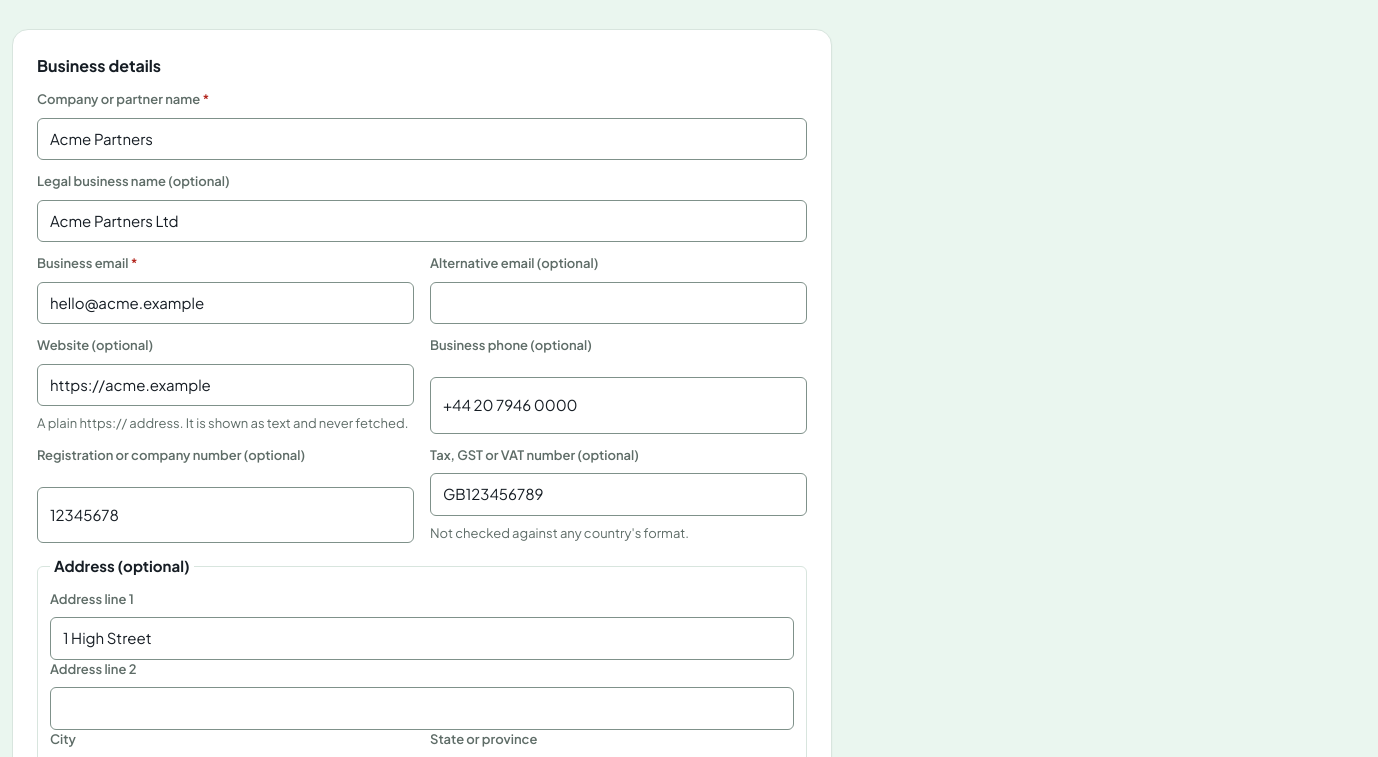
Business Details › sends only the business, support, payout and notes parts, at the version it read, and shows the saved values
(page scrolled)
Expected: the button "Save business details" is not shown
Replace the text in the field labelled "Website (optional)" with "  https://www.acme.example " at (226, 385), box [37,364,414,406]
(page scrolled)
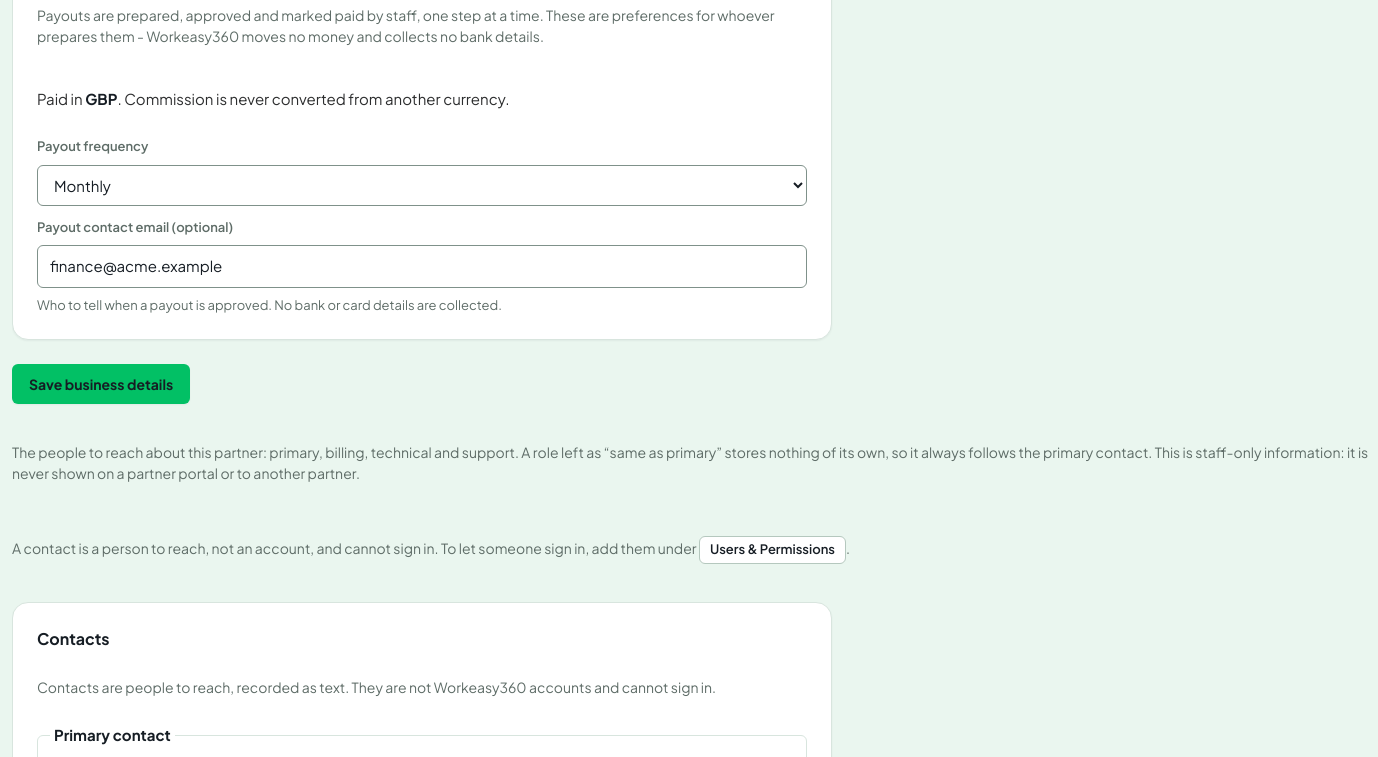
Click the button "Save business details" at (101, 384), box [12,364,190,404]
(page scrolled)
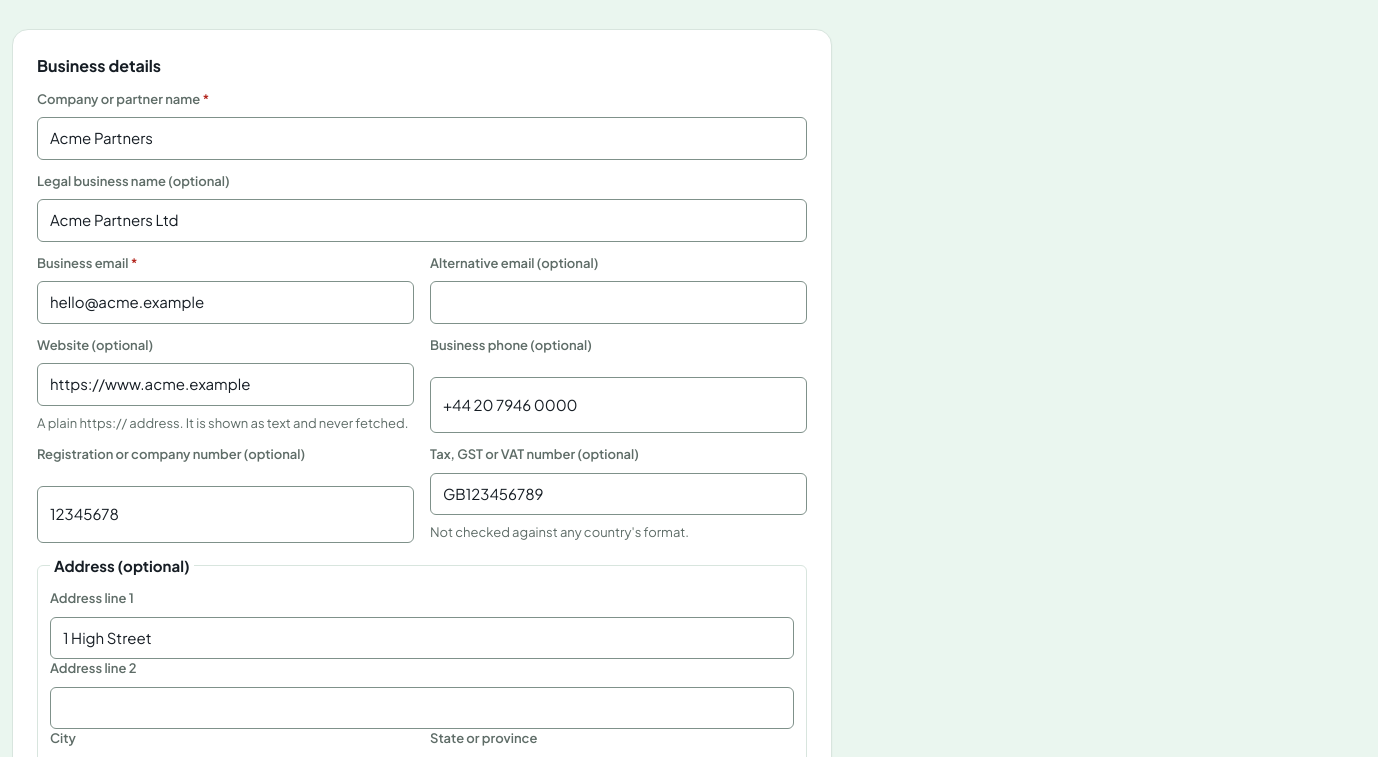
Expected: the field labelled "Website (optional)" holds "https://www.acme.example", [37,363,414,406]
